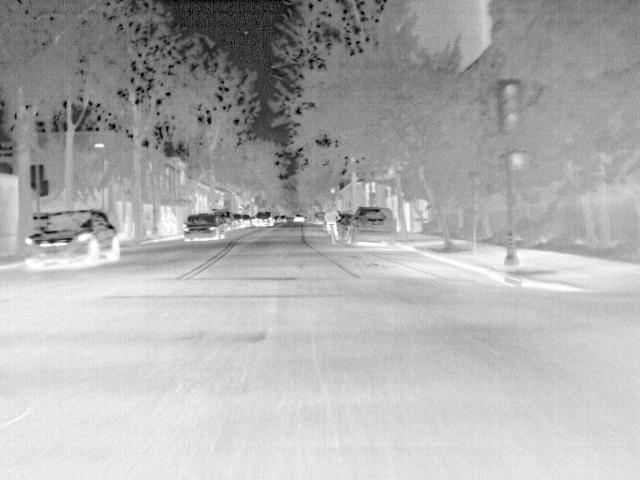car: (22, 208, 120, 269), (345, 208, 399, 246), (182, 212, 222, 240), (214, 208, 233, 229), (251, 213, 274, 227), (310, 210, 326, 225), (239, 213, 252, 228), (230, 214, 243, 228), (292, 211, 305, 224)
person: (323, 206, 338, 236)
